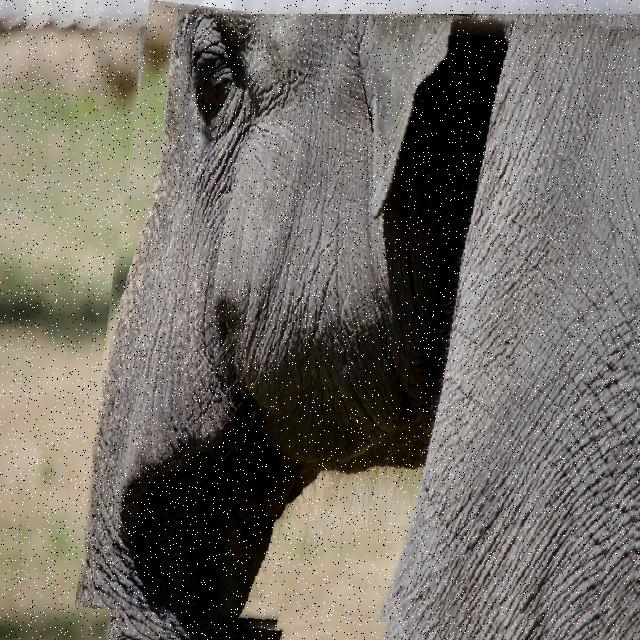elephant: (92, 14, 640, 640)
